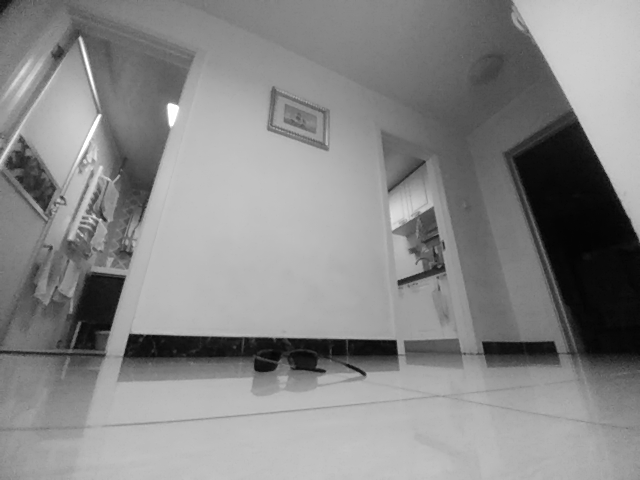others: (254, 347, 367, 379)
